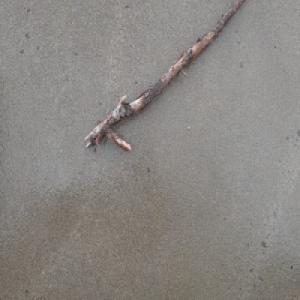Wood: (83, 0, 247, 154)
